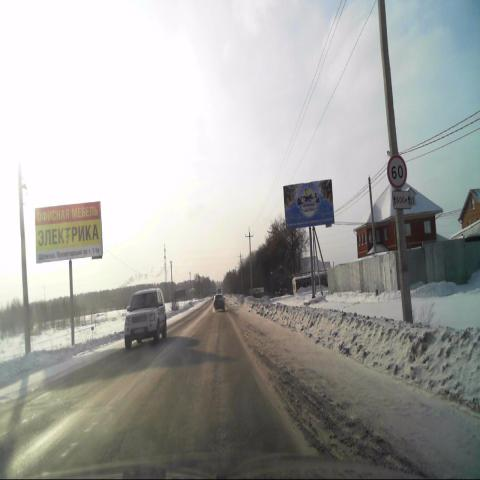8_2_1: (392, 191, 412, 210)
